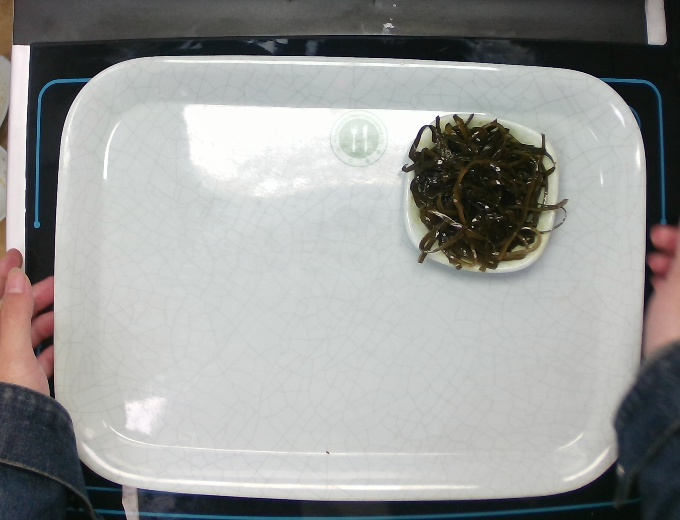JYsf-Si_Fang_Die: (388, 103, 567, 285)
